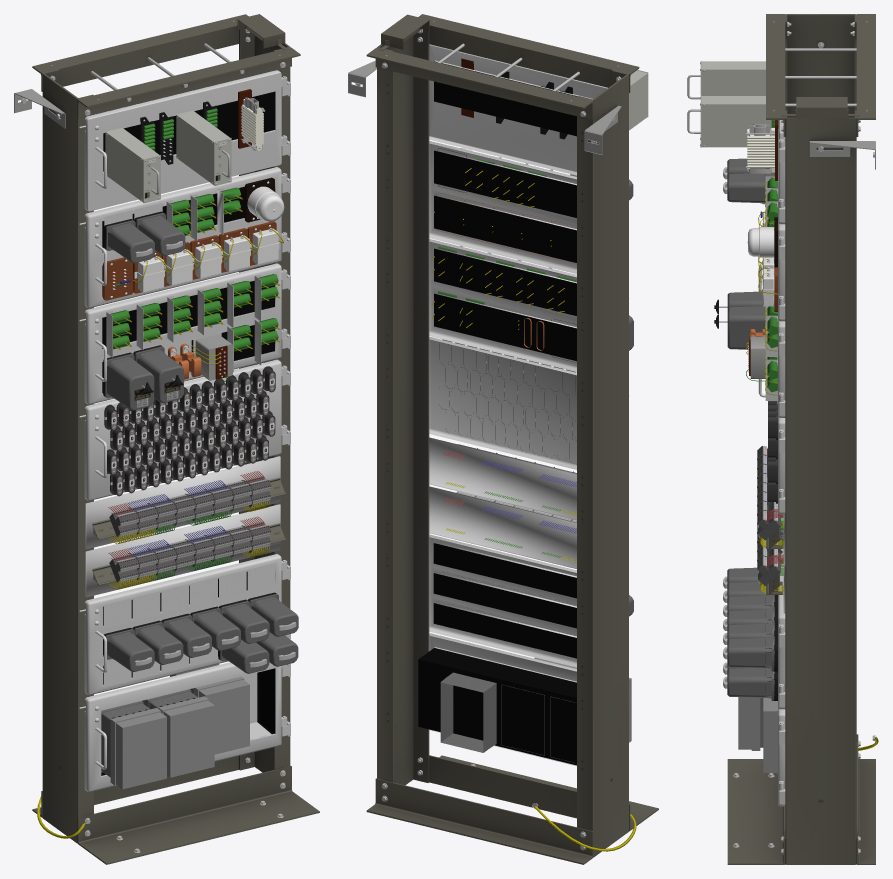
The model's file is stativ222.fbx.
3 views of the same model, side by side, from view 1: azimuth 30°, elevation 25°; view 2: azimuth 150°, elevation 25°; view 3: azimuth 270°, elevation 25° (orthographic).
Parts seen in each view (by area): view 1: cabinet_stativ220, pan_low.003, transformator_kris_glass_low.002, glass.005_low.017, kolodka3_low.004, kolodka2_low.007, kolodka2_low.006, Plane.087, glass.005_low.016, fuse_blok.018, Cube_low.014, Cube_low.013 (+24 smaller); view 2: cabinet_stativ220, pan_low.003, transformator_kris_low.003, Cube_low.013; view 3: cabinet_stativ220, pan_low.003, glass.005_low.017, Cube_low.014, Cube_low.013, glass.005_low.016, cabinet_stativ230a.027, glass.005_low.015, glass.005_low.018, kolodka2_low.007, transformator_kris_glass_low.002, transformator_kris_glass_low.003 (+7 smaller).
Part boxes in pixels (x1,y1,x2,y2): cabinet_stativ220: [14, 14, 319, 864]; pan_low.003: [79, 70, 290, 791]; transformator_kris_glass_low.002: [110, 696, 214, 789]; glass.005_low.017: [105, 594, 298, 672]; kolodka3_low.004: [133, 221, 283, 293]; kolodka2_low.007: [109, 476, 271, 536]; kolodka2_low.006: [109, 521, 271, 582]; Plane.087: [106, 288, 223, 357]; glass.005_low.016: [105, 346, 183, 410]; fuse_blok.018: [107, 413, 275, 475]; Cube_low.014: [176, 110, 231, 185]; Cube_low.013: [105, 128, 160, 203]; cabinet_stativ220: [348, 14, 658, 864]; pan_low.003: [418, 44, 629, 766]; transformator_kris_low.003: [440, 672, 496, 752]; Cube_low.013: [629, 70, 648, 130]; cabinet_stativ220: [727, 14, 878, 864]; pan_low.003: [758, 120, 785, 806]; glass.005_low.017: [727, 567, 773, 671]; Cube_low.014: [687, 95, 771, 147]; Cube_low.013: [687, 61, 765, 99]; glass.005_low.016: [727, 291, 765, 349]; cabinet_stativ230a.027: [746, 120, 778, 180]; glass.005_low.015: [727, 158, 773, 203]; glass.005_low.018: [727, 666, 773, 700]; kolodka2_low.007: [757, 446, 782, 540]; transformator_kris_glass_low.002: [738, 697, 760, 750]; transformator_kris_glass_low.003: [763, 698, 777, 774].
Size of the model in its own units: 73.83 by 213 by 48.83.
Materials: 7 (7 with a texture image).
